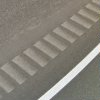crosswalk: (0, 0, 100, 92)
